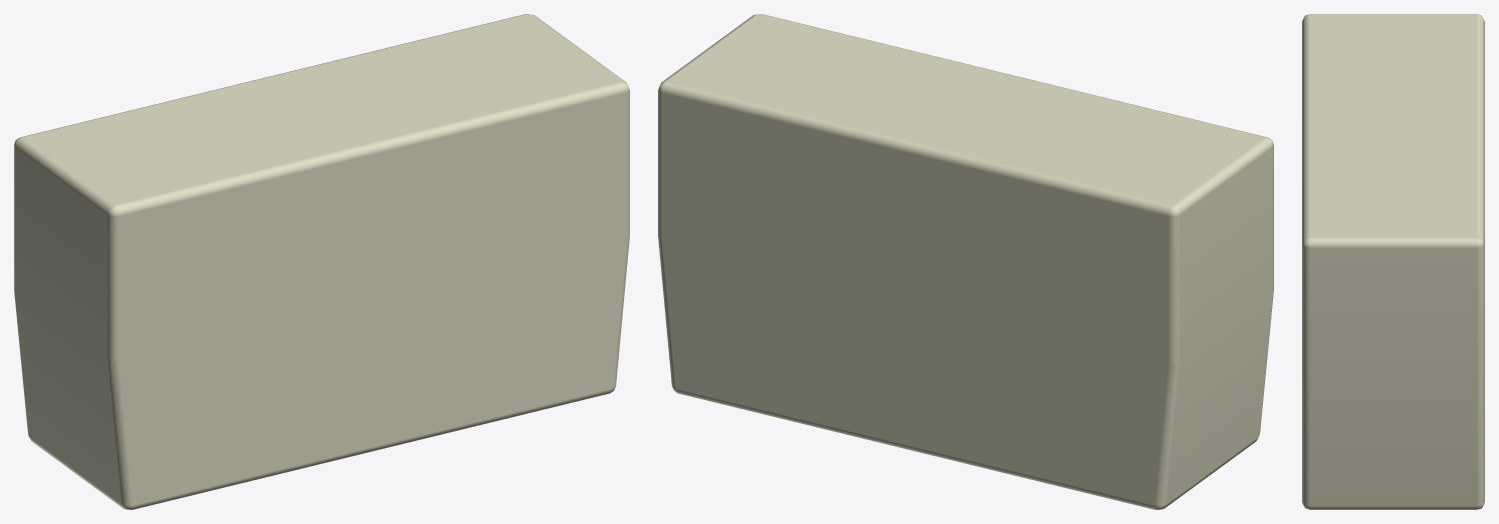
The model's file is retro-game-console-side.fbx.
3 renders of one model, left to right at view 1: azimuth 30°, elevation 25°; view 2: azimuth 150°, elevation 25°; view 3: azimuth 270°, elevation 25°, orthographic. The views are drawn at different scales.
Visible parts, largest first — view 1: Plane.002; view 2: Plane.002; view 3: Plane.002.
Boxes of the visible parts, left/top/right/bottom form: Plane.002: left=14, top=14, right=629, bottom=509; Plane.002: left=658, top=14, right=1273, bottom=509; Plane.002: left=1302, top=14, right=1484, bottom=509.
Size of the model in its own units: 200 by 113 by 67.22.
